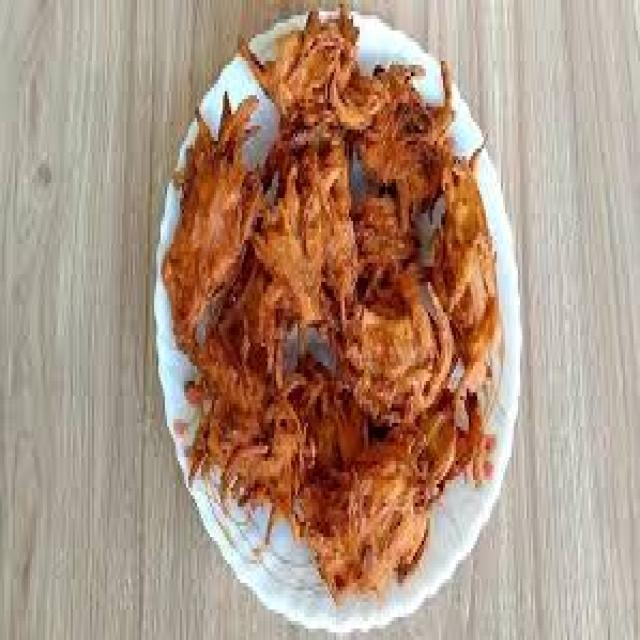BAJI: (157, 8, 516, 602)
